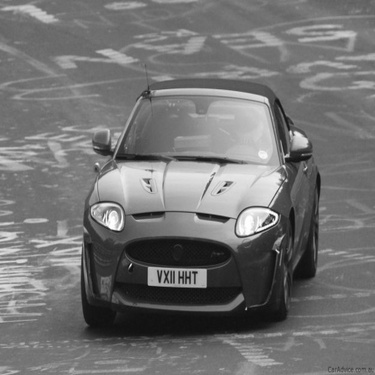car: (77, 58, 327, 336)
